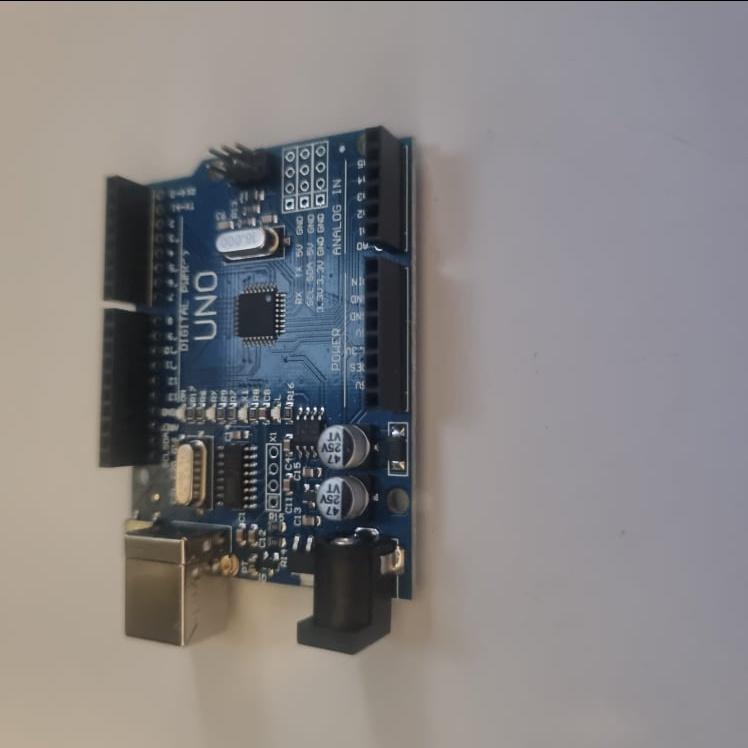UNO R3: (96, 121, 417, 648)
